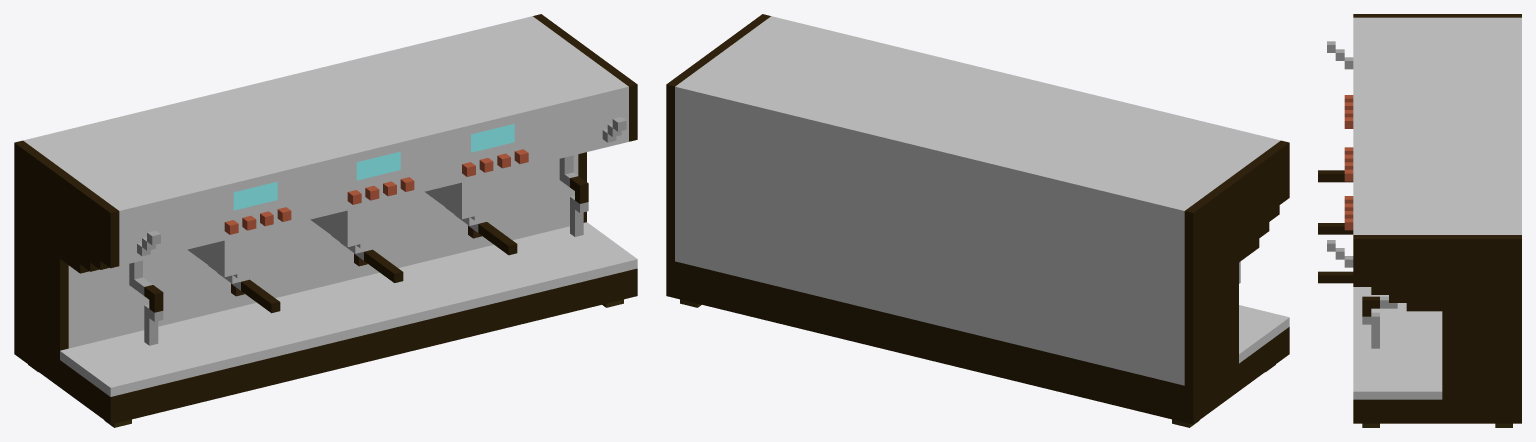
Rendered from Cafe_Caffee_Machine1.fbx.
The picture shows the model from 3 angles, left to right: view 1: azimuth 30°, elevation 25°; view 2: azimuth 150°, elevation 25°; view 3: azimuth 270°, elevation 25°; orthographic projection. The views are drawn at different scales.
Parts seen in each view (by area): view 1: Cafe Caffee Machine1; view 2: Cafe Caffee Machine1; view 3: Cafe Caffee Machine1.
Part boxes in pixels (x1,y1,x2,y2): Cafe Caffee Machine1: [14, 14, 637, 427]; Cafe Caffee Machine1: [666, 14, 1289, 427]; Cafe Caffee Machine1: [1318, 14, 1521, 427].
Size of the model in its own units: 6 by 2.4 by 2.3.
